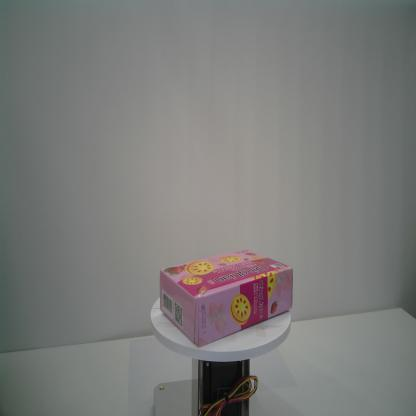Dessert: (158, 246, 294, 349)
